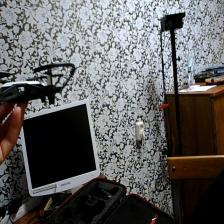drone: (0, 54, 80, 115)
